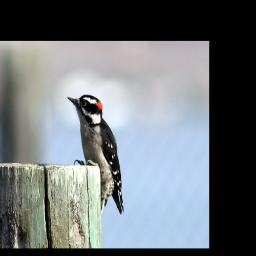Woodpecker: (66, 94, 125, 214)
